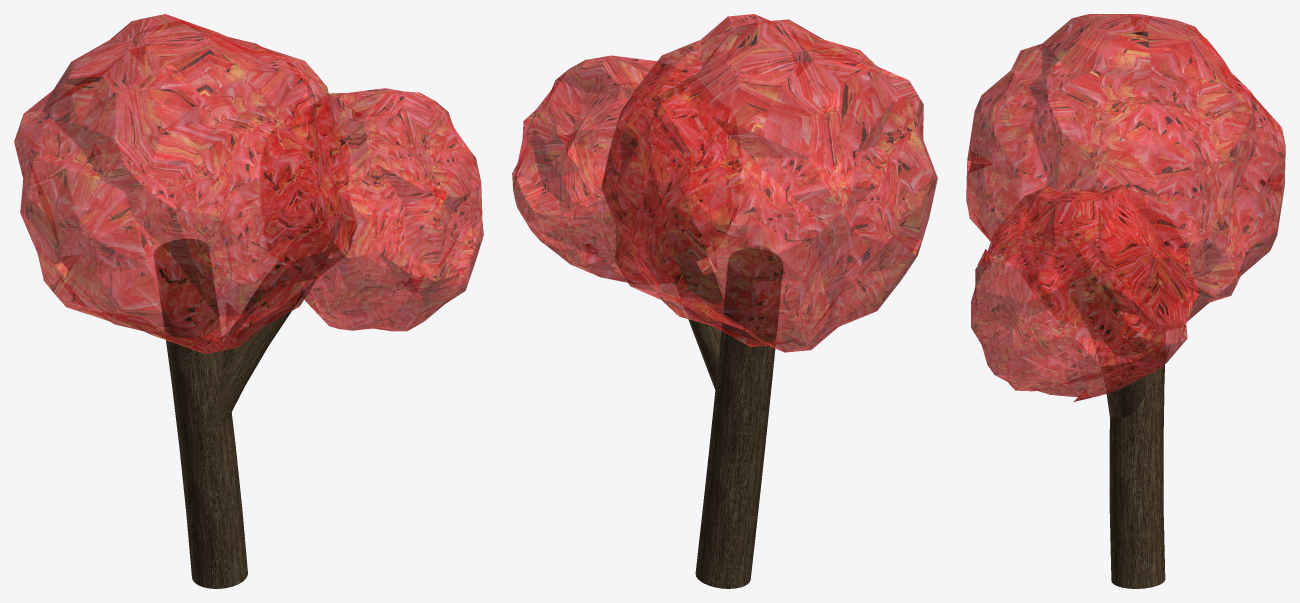
The model's file is baum1.DAE.
The picture shows the model from 3 angles, left to right: view 1: azimuth 30°, elevation 25°; view 2: azimuth 150°, elevation 25°; view 3: azimuth 270°, elevation 25°; orthographic projection. The views are drawn at different scales.
Visible parts, largest first — view 1: Geosph_re002, Geosph_re001, Baum, Zylinder001; view 2: Geosph_re002, Geosph_re001, Baum, Zylinder001; view 3: Geosph_re002, Geosph_re001, Baum, Zylinder001.
Part boxes in pixels (bbox=[...]): Geosph_re002: bbox=[14, 14, 356, 353]; Geosph_re001: bbox=[259, 88, 483, 331]; Baum: bbox=[153, 239, 247, 588]; Zylinder001: bbox=[203, 205, 340, 428]; Geosph_re002: bbox=[601, 14, 937, 352]; Geosph_re001: bbox=[512, 55, 742, 282]; Baum: bbox=[695, 248, 782, 588]; Zylinder001: bbox=[655, 180, 723, 389]; Geosph_re002: bbox=[966, 14, 1285, 322]; Geosph_re001: bbox=[971, 184, 1199, 401]; Baum: bbox=[1109, 332, 1165, 588]; Zylinder001: bbox=[1067, 267, 1144, 418].
Size of the model in its own units: 64.85 by 46.1 by 85.55.
